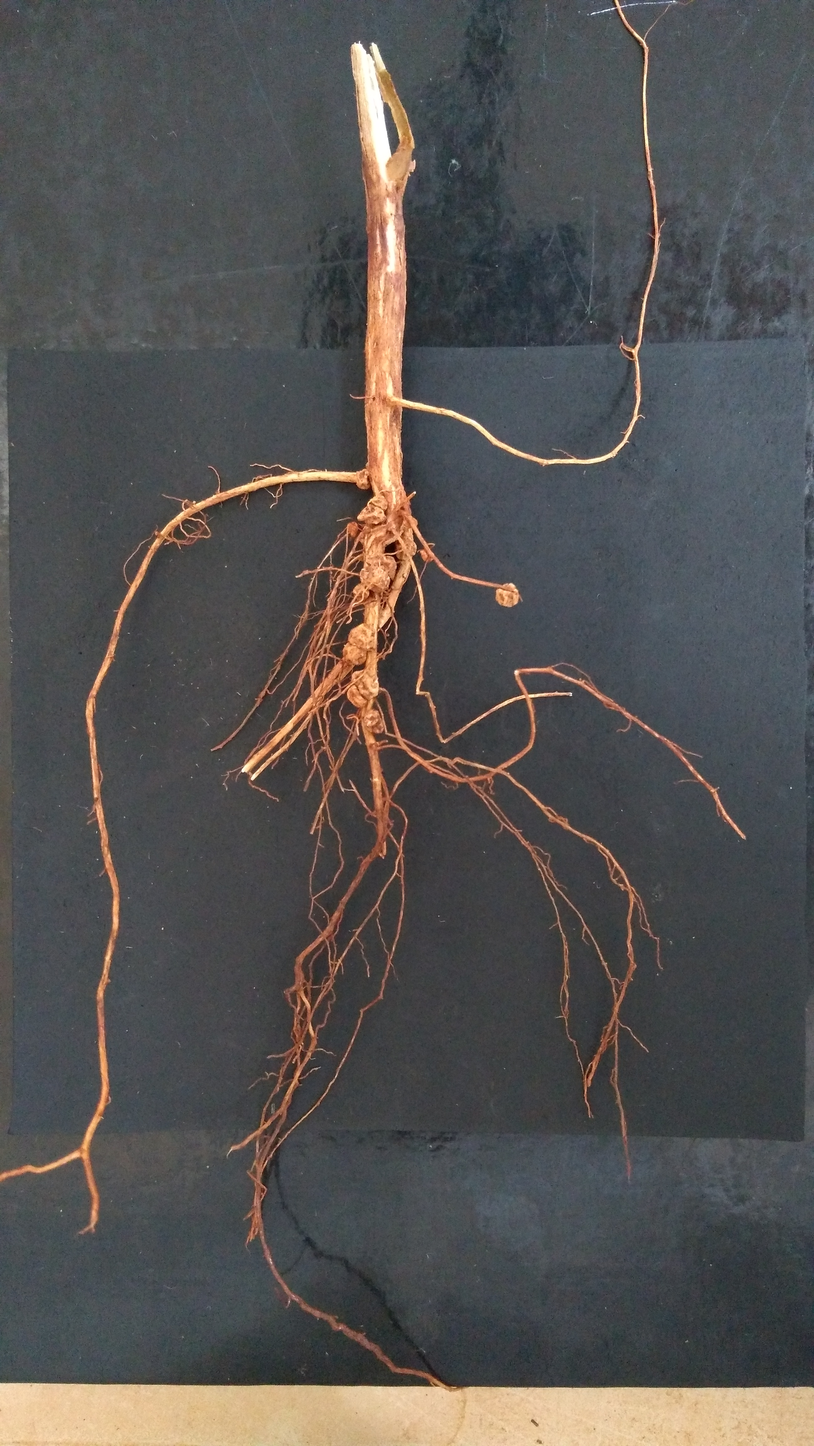nodule: (351, 669, 379, 700), (348, 623, 376, 651), (360, 568, 390, 593), (357, 503, 385, 525), (343, 642, 367, 665), (495, 583, 518, 607), (363, 709, 384, 734), (395, 534, 416, 559), (346, 685, 366, 708), (381, 556, 396, 579), (352, 583, 369, 602), (370, 494, 389, 510), (356, 469, 371, 489), (358, 525, 373, 545), (402, 516, 418, 529), (420, 549, 434, 562), (346, 522, 357, 537)
